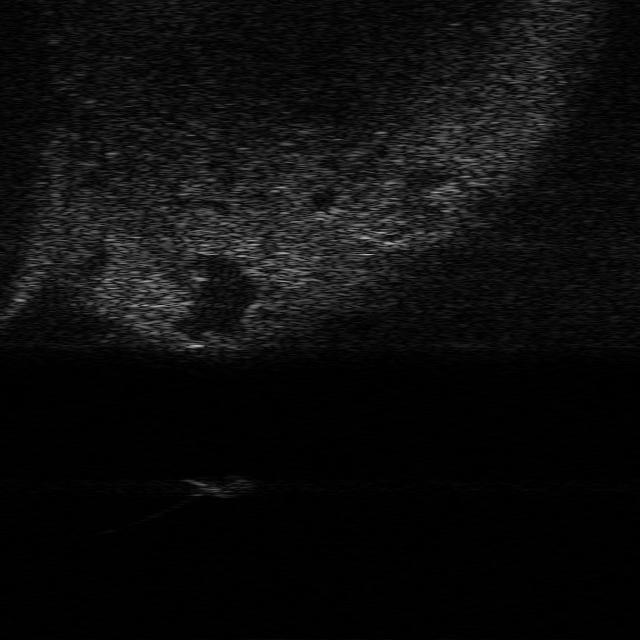cube: (181, 471, 251, 498)
